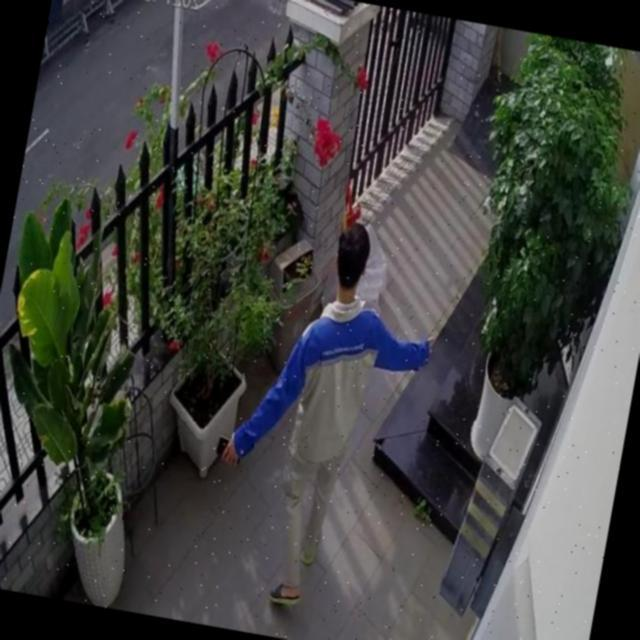person: (192, 204, 449, 626)
